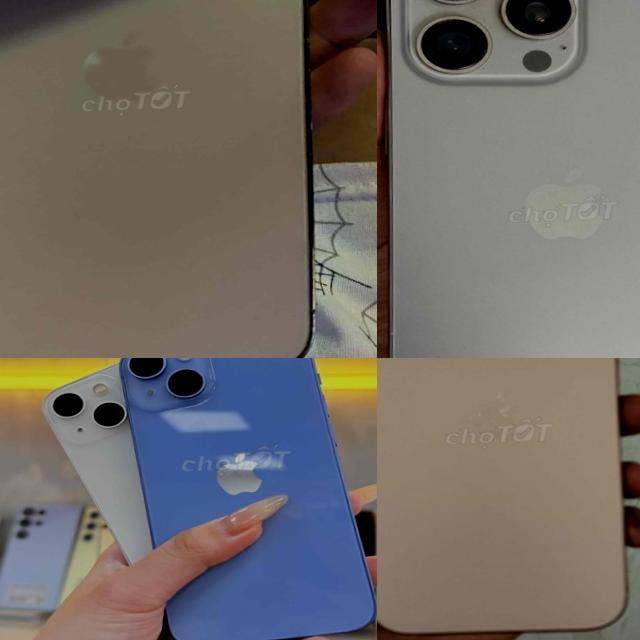gen_12_13: (0, 0, 335, 358)
gen_14: (119, 358, 377, 640)
gen_15: (377, 0, 640, 358)
gen_16: (377, 358, 627, 633)
